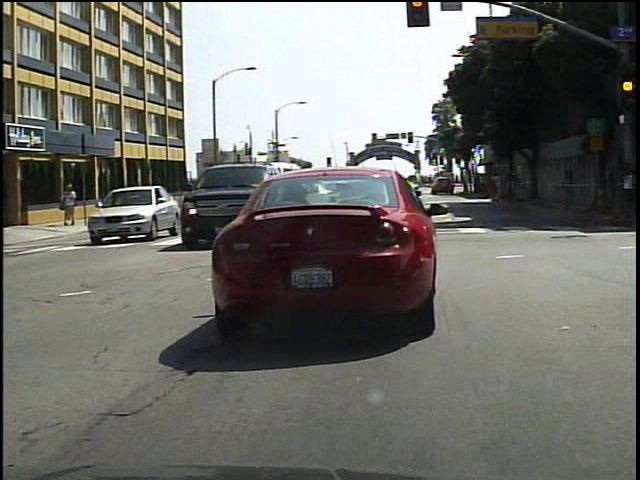person: (61, 179, 83, 227)
